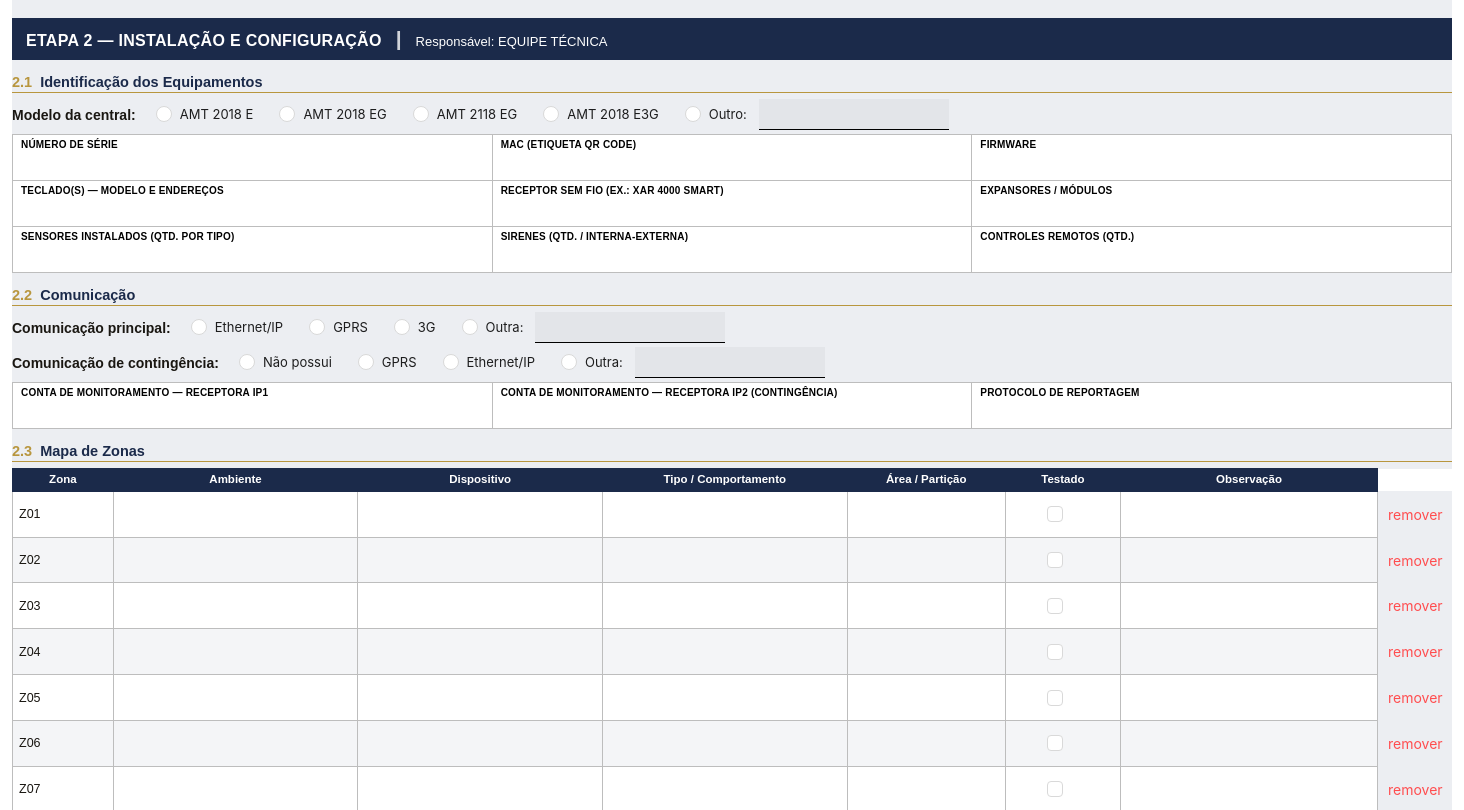
Test: Etapa 2 — opções de comunicação por modelo › "Outro" modelo e "Outra" comunicação só habilitam o texto quando escolhidos
The width and height of the screenshot is (1464, 810).
Expected: the field named "Outro modelo de central" is disabled, left=759, top=99, right=949, bottom=130
Click the radio button labelled "Outro:" at (720, 114), box left=685, top=104, right=755, bottom=125
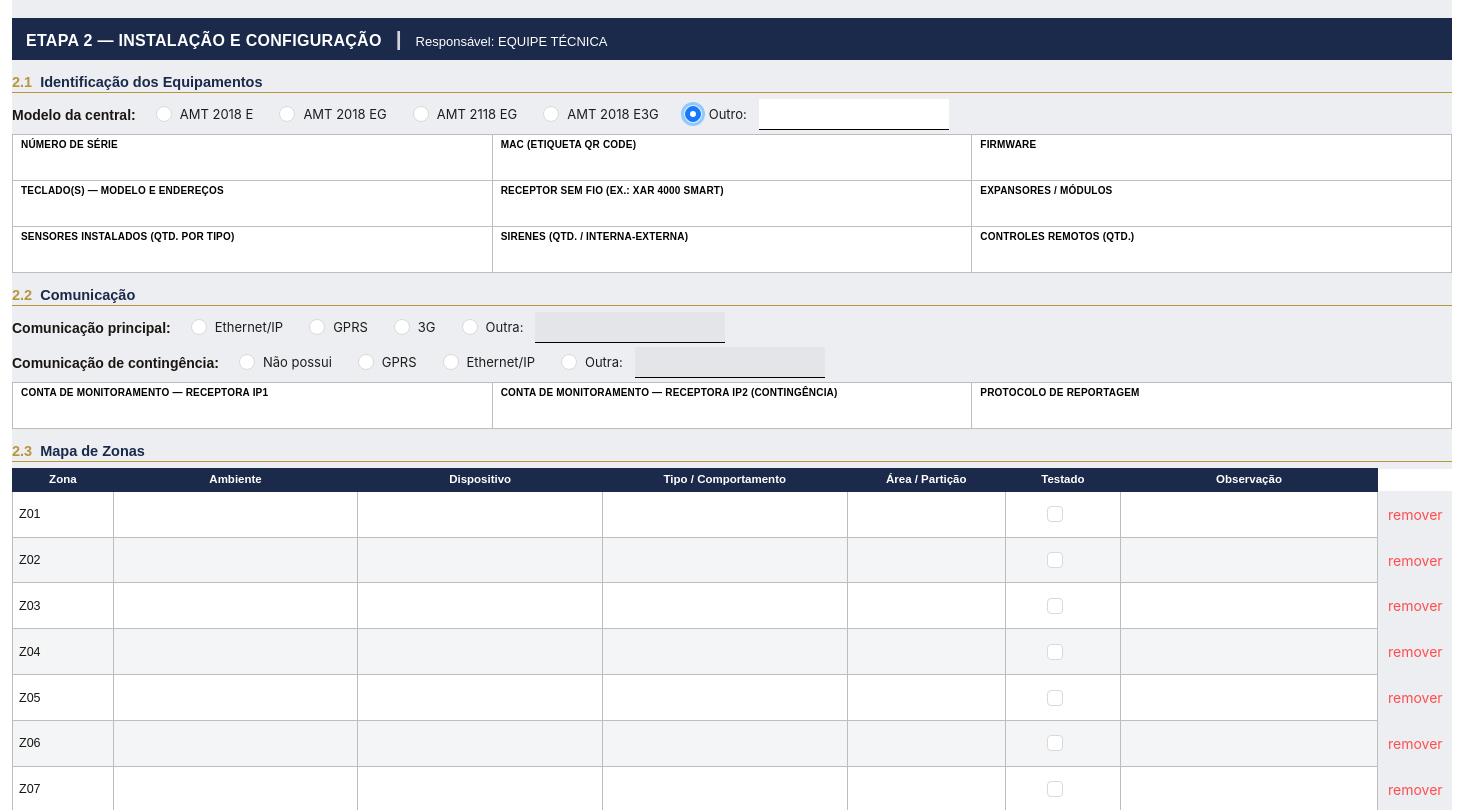
Expected: the field named "Outra comunicação principal" is disabled, left=535, top=312, right=725, bottom=343
Expected: the field named "Outro modelo de central" is enabled, left=759, top=99, right=949, bottom=130
Click the radio button labelled "Outra:" in the row of "Comunicação principal:" at (496, 328), box left=462, top=317, right=531, bottom=338
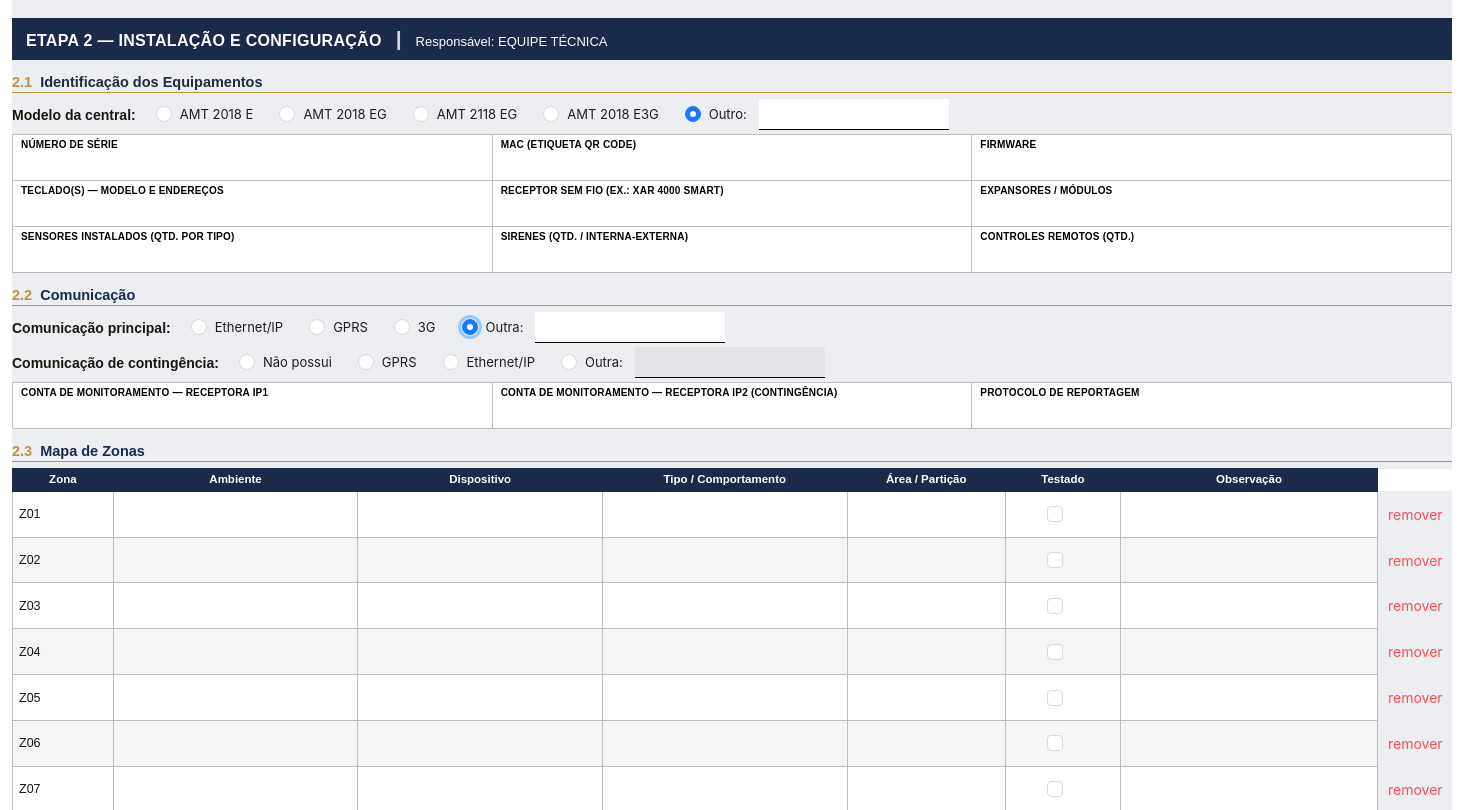
Expected: the field named "Outra comunicação principal" is enabled, left=535, top=312, right=725, bottom=343
